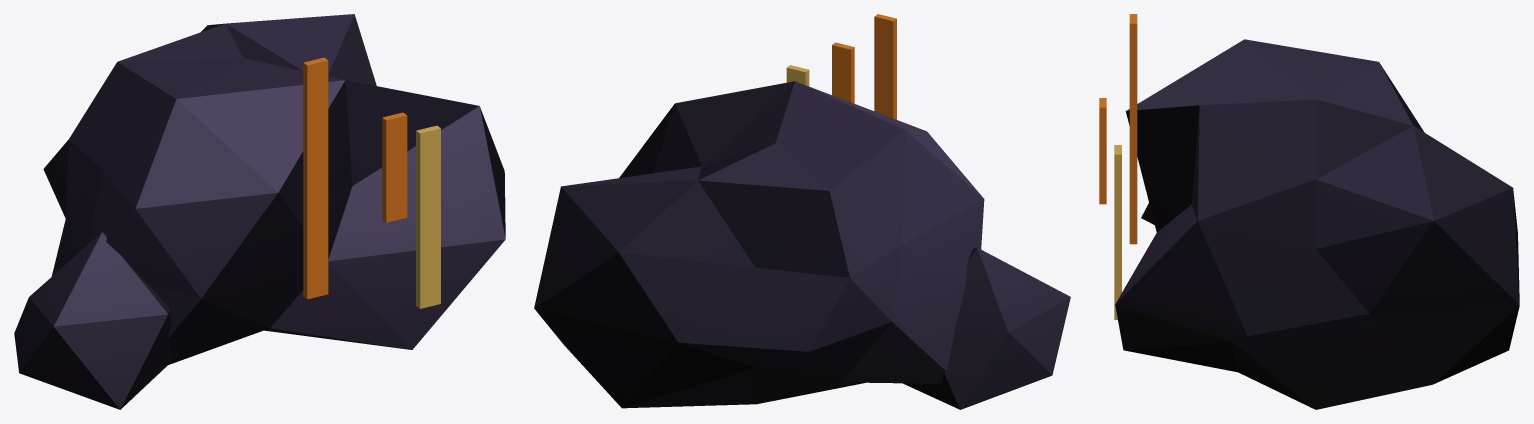
Rendered from lava_rock.glb.
The picture shows the model from 3 angles, left to right: view 1: azimuth 30°, elevation 25°; view 2: azimuth 150°, elevation 25°; view 3: azimuth 270°, elevation 25°; orthographic projection. The views are drawn at different scales.
Parts seen in each view (by area): view 1: lava_rock; view 2: lava_rock; view 3: lava_rock.
Boxes of the visible parts, x1=… form: lava_rock: x1=14, y1=14, x2=505, y2=409; lava_rock: x1=534, y1=14, x2=1070, y2=409; lava_rock: x1=1099, y1=14, x2=1519, y2=409.
Size of the model in its own units: 0.7011 by 0.42 by 0.553.
